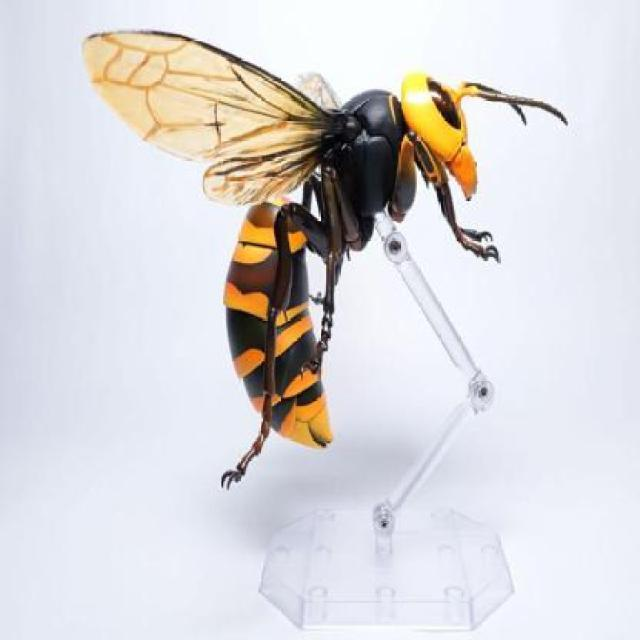Wasp: (72, 13, 574, 494)
